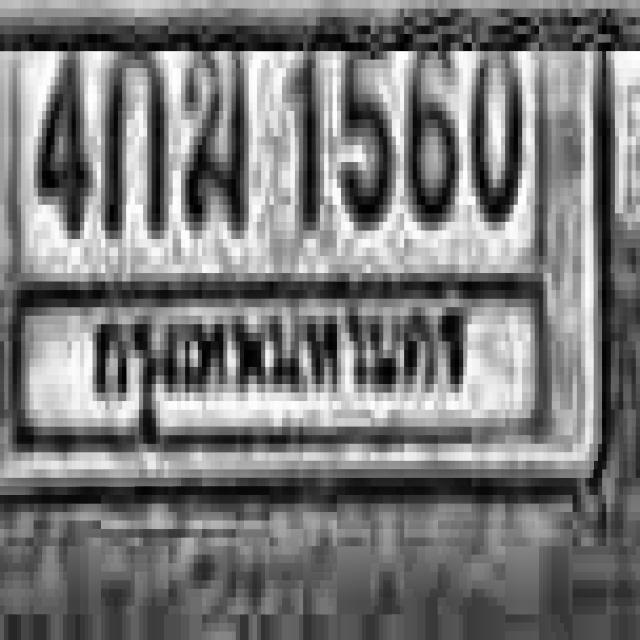license-plate: (0, 48, 602, 488)
